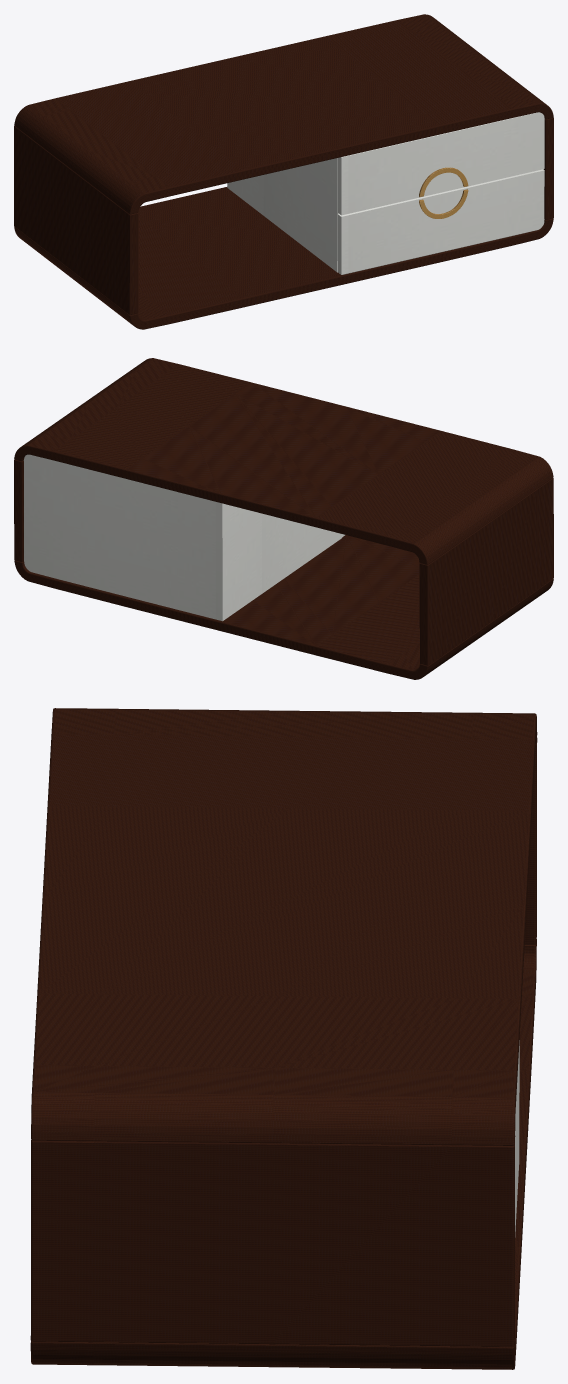
The model's file is coffee table.obj.
3 views of the same model, one above another, from view 1: azimuth 30°, elevation 25°; view 2: azimuth 150°, elevation 25°; view 3: azimuth 270°, elevation 25° (orthographic). The views are drawn at different scales.
Parts seen in each view (by area): view 1: Mesh2 Group1 Model, Mesh4 Group1 Model, Mesh7 Group1 Model, Mesh6 Group1 Model; view 2: Mesh2 Group1 Model, Mesh6 Group1 Model; view 3: Mesh2 Group1 Model.
Part boxes in pixels (bbox=[...]): Mesh2 Group1 Model: bbox=[14, 14, 553, 329]; Mesh4 Group1 Model: bbox=[338, 169, 544, 274]; Mesh7 Group1 Model: bbox=[338, 112, 544, 215]; Mesh6 Group1 Model: bbox=[227, 158, 338, 272]; Mesh2 Group1 Model: bbox=[14, 358, 553, 679]; Mesh6 Group1 Model: bbox=[23, 454, 342, 621]; Mesh2 Group1 Model: bbox=[30, 708, 537, 1369].
Bounding box in the file's own units: 308 × 102 × 159.
Materials: 4 (3 with a texture image).
